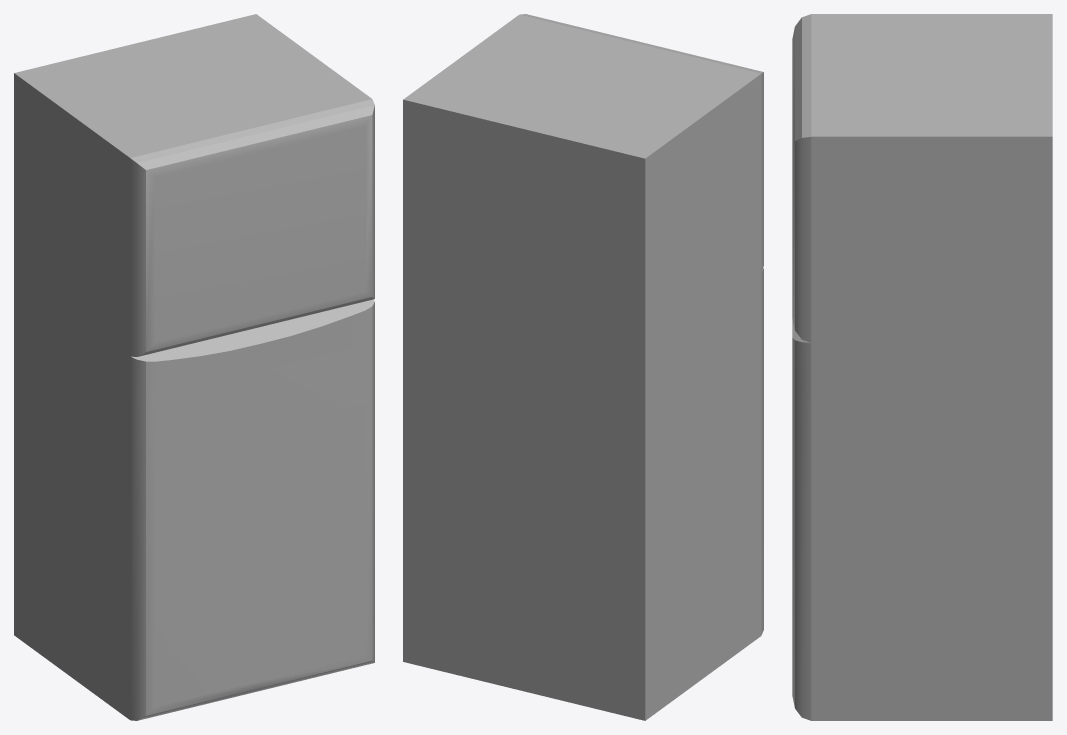
Rendered from fridge.fbx.
3 views of the same model, side by side, from view 1: azimuth 30°, elevation 25°; view 2: azimuth 150°, elevation 25°; view 3: azimuth 270°, elevation 25° (orthographic). The views are drawn at different scales.
Parts seen in each view (by area): view 1: fridge; view 2: fridge; view 3: fridge.
Boxes of the visible parts, <box> form: fridge: <box>14,14,374,720</box>; fridge: <box>403,14,763,720</box>; fridge: <box>792,14,1052,720</box>.
Bounding box in the file's own units: 15.32 × 34 × 13.73.
Materials: 1 (1 with a texture image).
